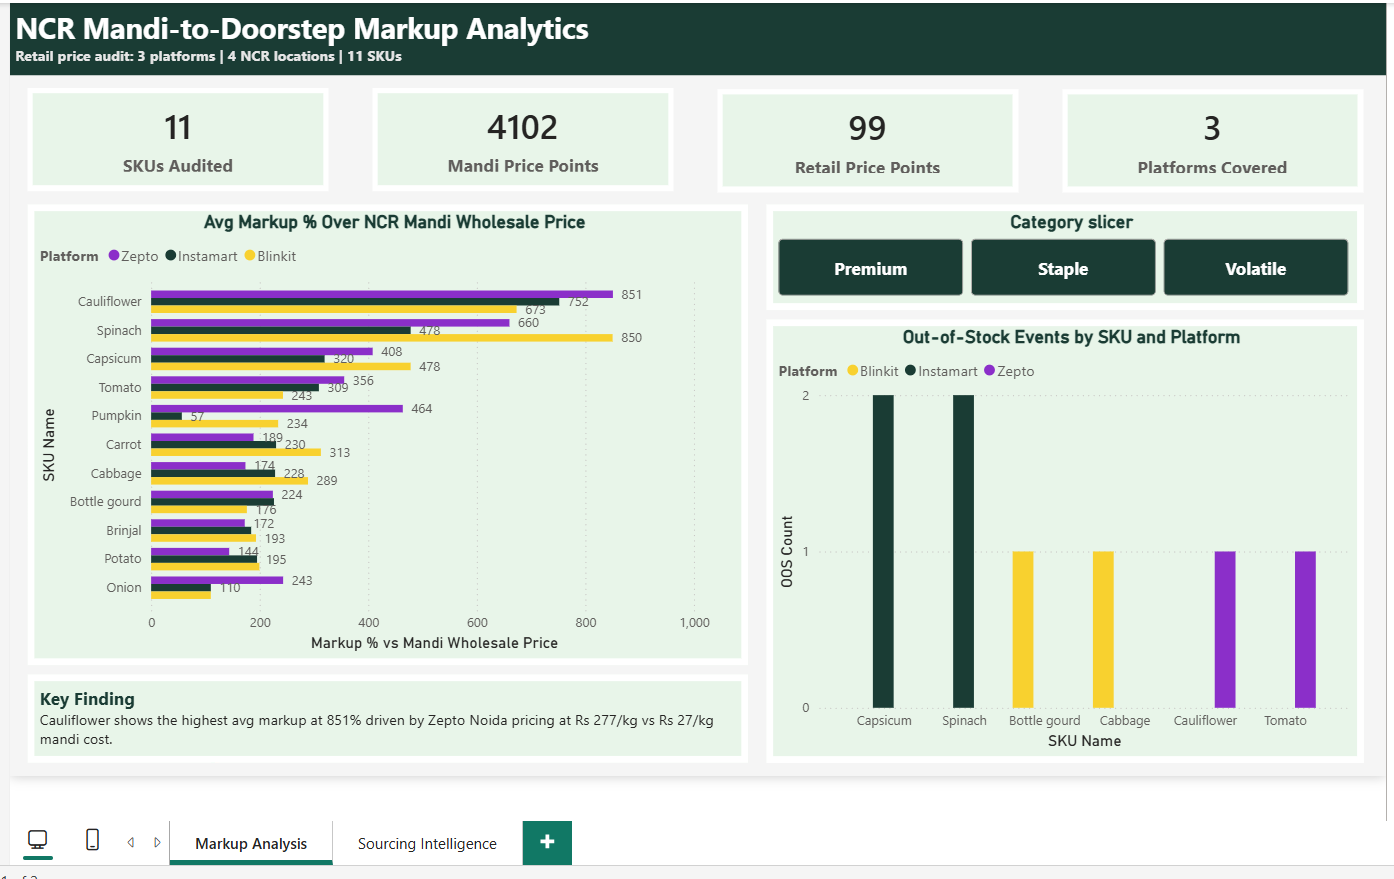

The dashboard page shown, as its layout file describes it:
{"tool":"powerbi","page":{"name":"Markup Analysis","canvas":[1280,720],"ordinal":0},"visuals":[{"type":"textbox","box":[0,0,1280.3,67.2],"z":0},{"type":"cardVisual","fields":{"Data":["Count(retail_prices.sku_name)"]},"box":[15.7,78.7,280,95.6],"z":1000},{"type":"cardVisual","fields":{"Data":["CountNonNull(mandi_prices.arrival_date)"]},"box":[337,78.7,280,95.6],"z":2000},{"type":"cardVisual","fields":{"Data":["CountNonNull(retail_prices.capture_date)"]},"box":[658.4,79.9,279.6,95.6],"z":3000},{"type":"cardVisual","fields":{"Data":["Count(retail_prices.platform)"]},"box":[979.3,79.9,279.6,95.6],"z":4000},{"type":"clusteredBarChart","title":"Avg Markup % Over NCR Mandi Wholesale Price","fields":{"Category":["retail_prices.sku_name"],"Y":["mandi_prices.Avg Markup Pct"],"Series":["retail_prices.platform"]},"box":[15.7,187.6,670.6,428.5],"z":5000},{"type":"textbox","box":[15.7,624.6,670.6,82.3],"z":6000},{"type":"clusteredColumnChart","title":"Out-of-Stock Events by SKU and Platform","fields":{"Category":["retail_prices.sku_name"],"Y":["CountNonNull(retail_prices.out_of_stock)"],"Series":["retail_prices.platform"]},"box":[703.3,294.2,555.6,412.8],"z":7000},{"type":"advancedSlicerVisual","title":"Category slicer","fields":{"Values":["retail_prices.category"]},"box":[703.3,187.6,555.6,98.1],"z":8000}]}

Visuals, with their boxes on the page's 1280x720 design canvas (x1, y1, x2, y2). These are canvas units, not pixel positions in the 1394x879 screenshot, which may show the page scaled, cropped or inside an application window:
textbox: bbox(0, 0, 1280, 67)
cardVisual - Count(retail_prices.sku_name): bbox(16, 79, 296, 174)
cardVisual - CountNonNull(mandi_prices.arrival_date): bbox(337, 79, 617, 174)
cardVisual - CountNonNull(retail_prices.capture_date): bbox(658, 80, 938, 176)
cardVisual - Count(retail_prices.platform): bbox(979, 80, 1259, 176)
"Avg Markup % Over NCR Mandi Wholesale Price" clusteredBarChart: bbox(16, 188, 686, 616)
textbox: bbox(16, 625, 686, 707)
"Out-of-Stock Events by SKU and Platform" clusteredColumnChart: bbox(703, 294, 1259, 707)
"Category slicer" advancedSlicerVisual: bbox(703, 188, 1259, 286)
